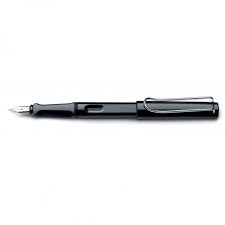qillqana: (7, 93, 221, 121)
